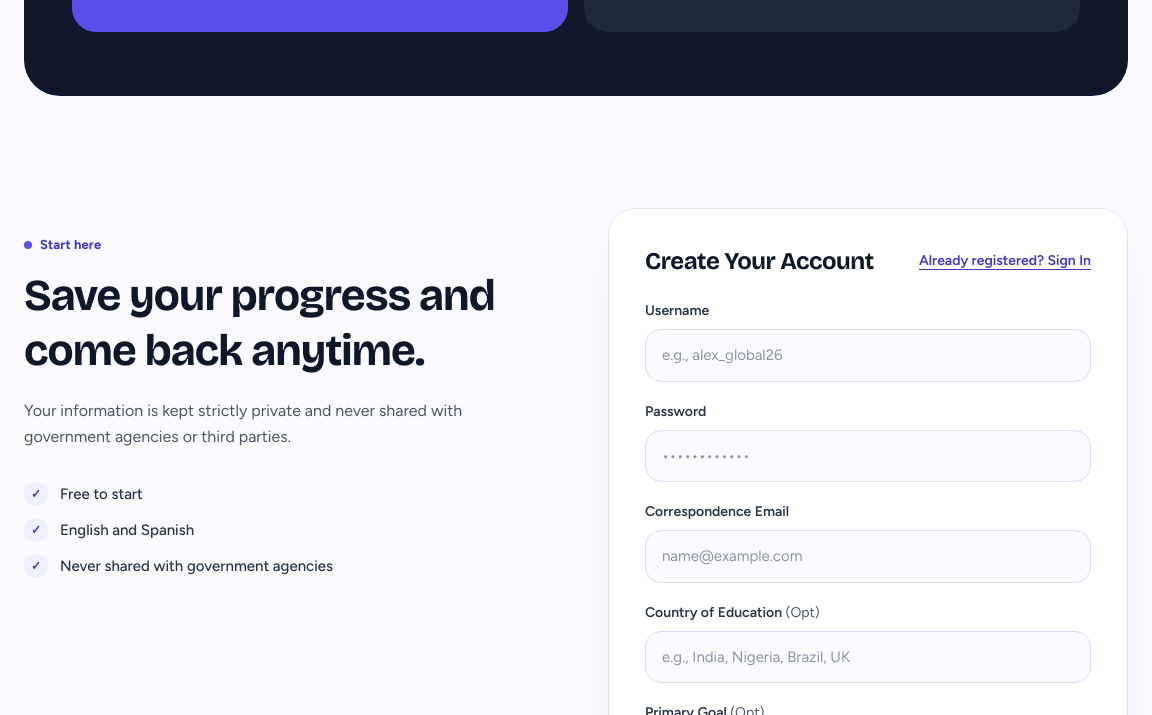
App sign-up — server path sends country + goal in the API body › forwards country and goal to /auth/signup when the backend is reachable
(page scrolled)
Type "alice" into the field with test id "input-username".
click(868, 355); type("alice")  # box [645,329,1091,382]
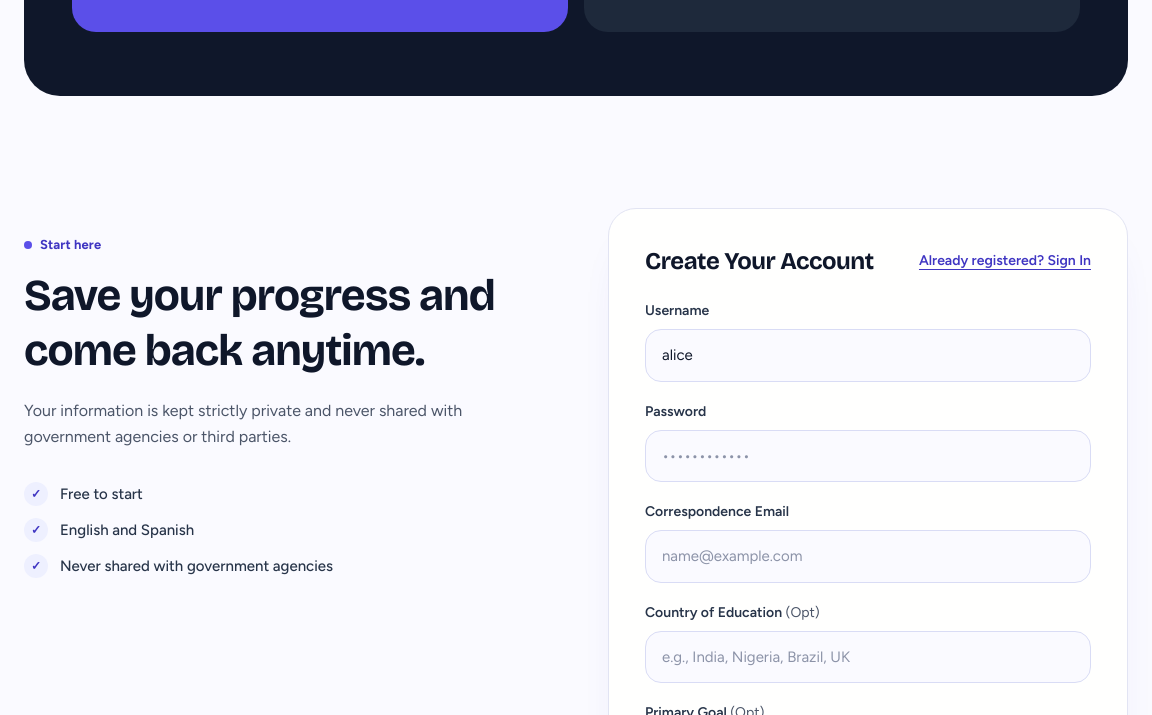
Type "hunter2" into the password field with test id "input-password".
click(868, 456); type("hunter2")  # box [645,430,1091,482]
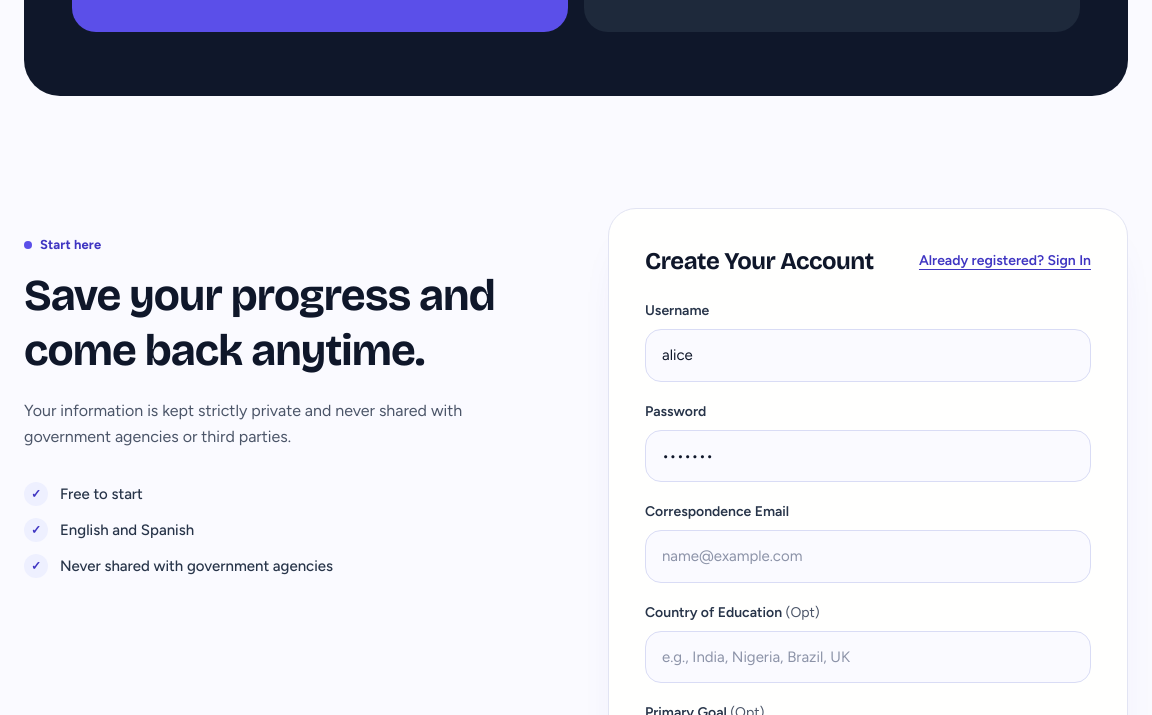
Type "alice@example.com" into the field with test id "input-email".
click(868, 556); type("alice@example.com")  # box [645,530,1091,583]
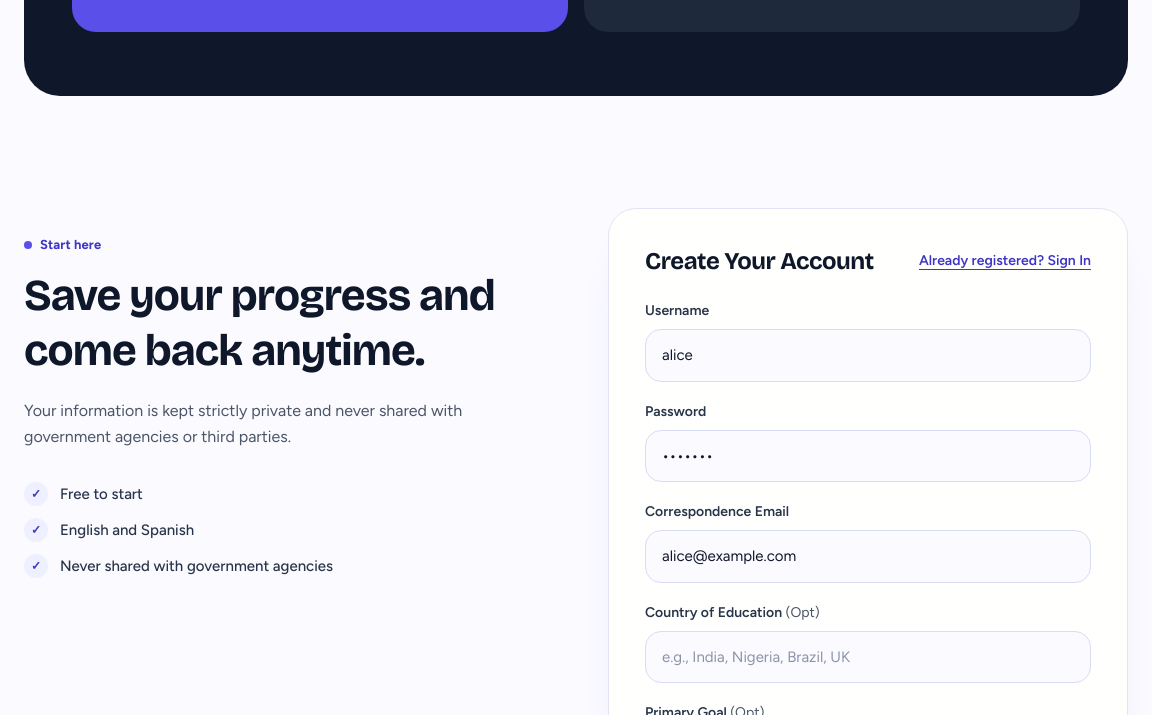
Type "Nigeria" into the field with test id "input-signup-country".
click(868, 657); type("Nigeria")  # box [645,631,1091,683]
(page scrolled)
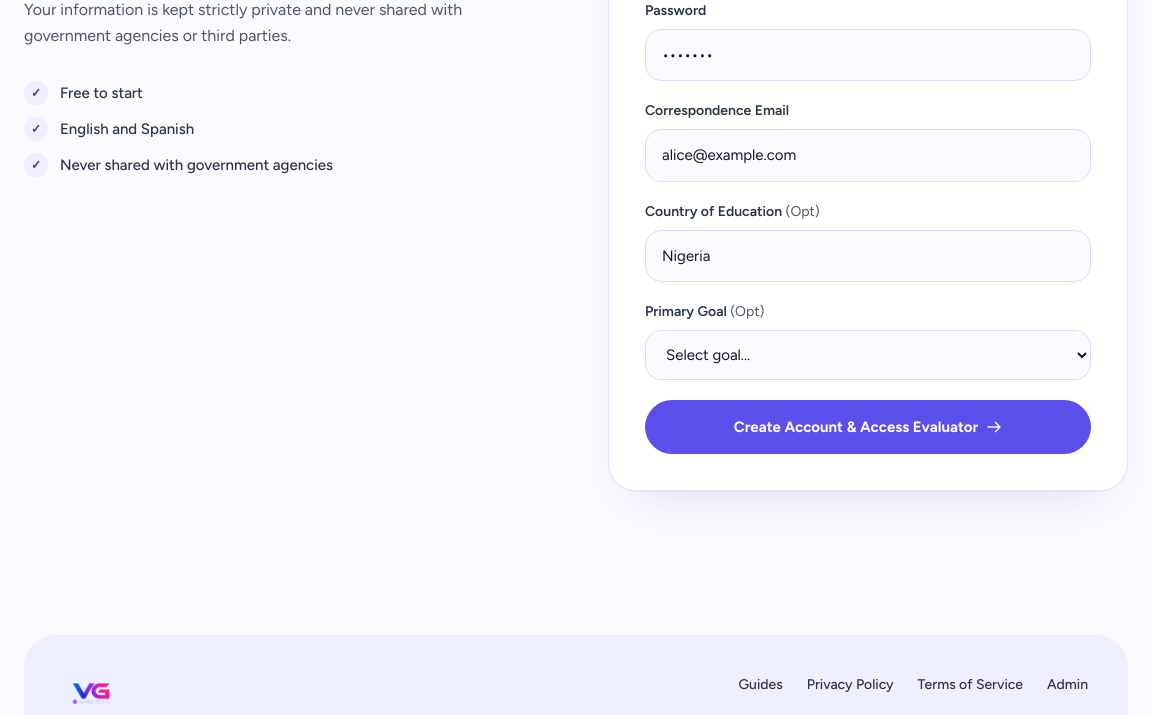
Select "Employment / HR" in the dropdown with test id "select-signup-goal" at (868, 355), box [645,330,1091,380]
(page scrolled)
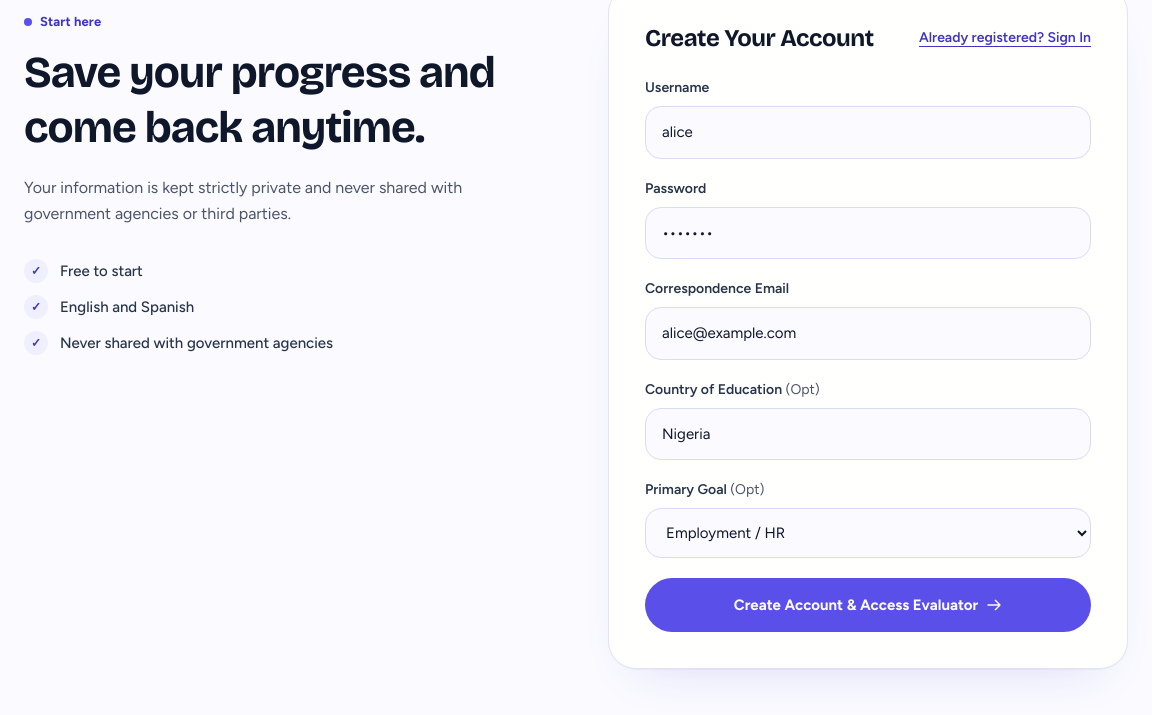
Submit the form with test id "form-auth", box [645,78,1091,632]
(page scrolled)
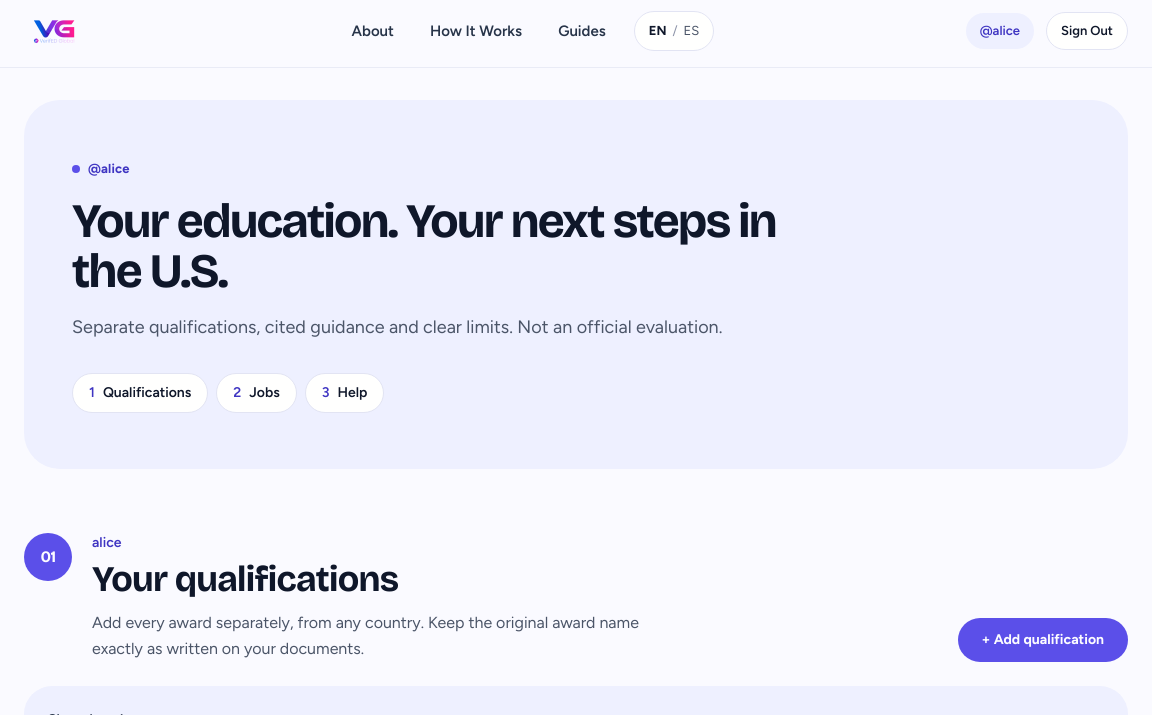
Expected: the element with test id "nav-user-badge" is shown, [966,12,1128,50]
